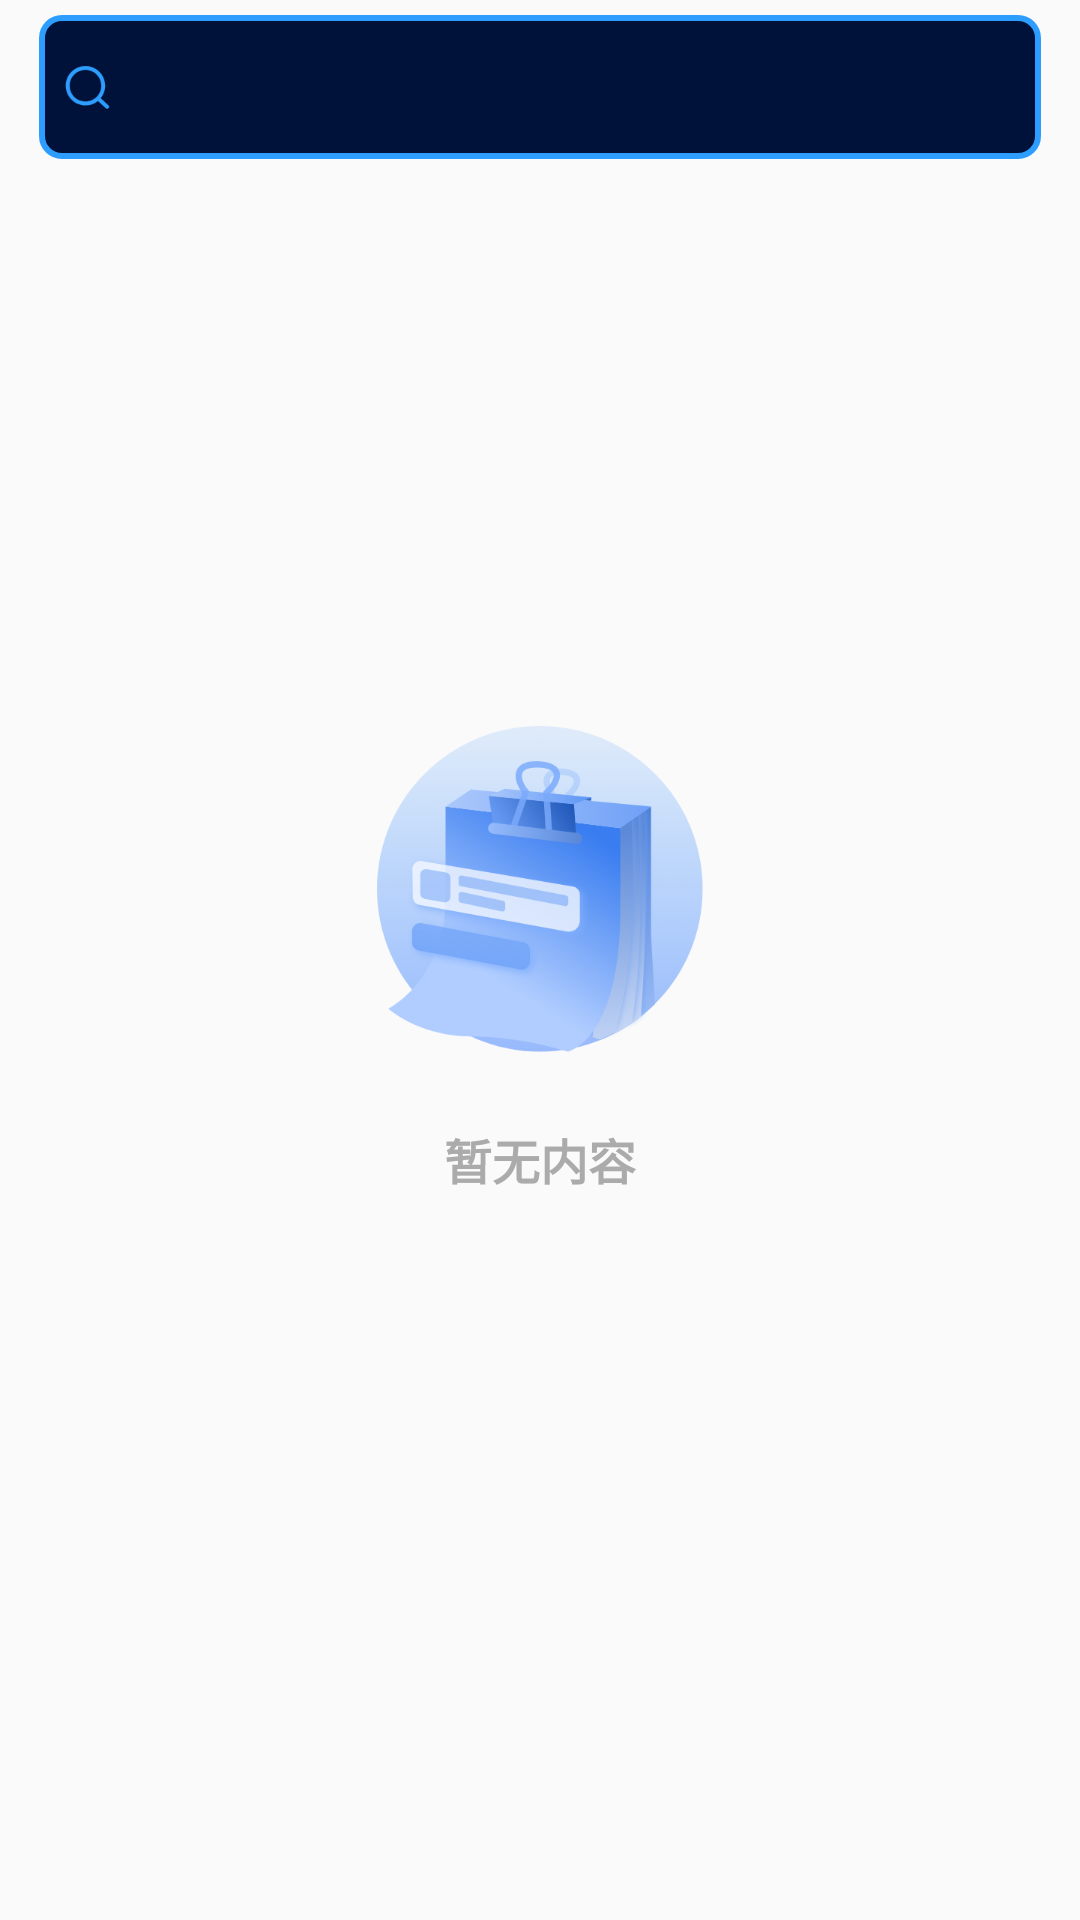

Where to tap for icons on this 1080×1920 app screen, as (x=x, y=y):
search: (x=87, y=87)
